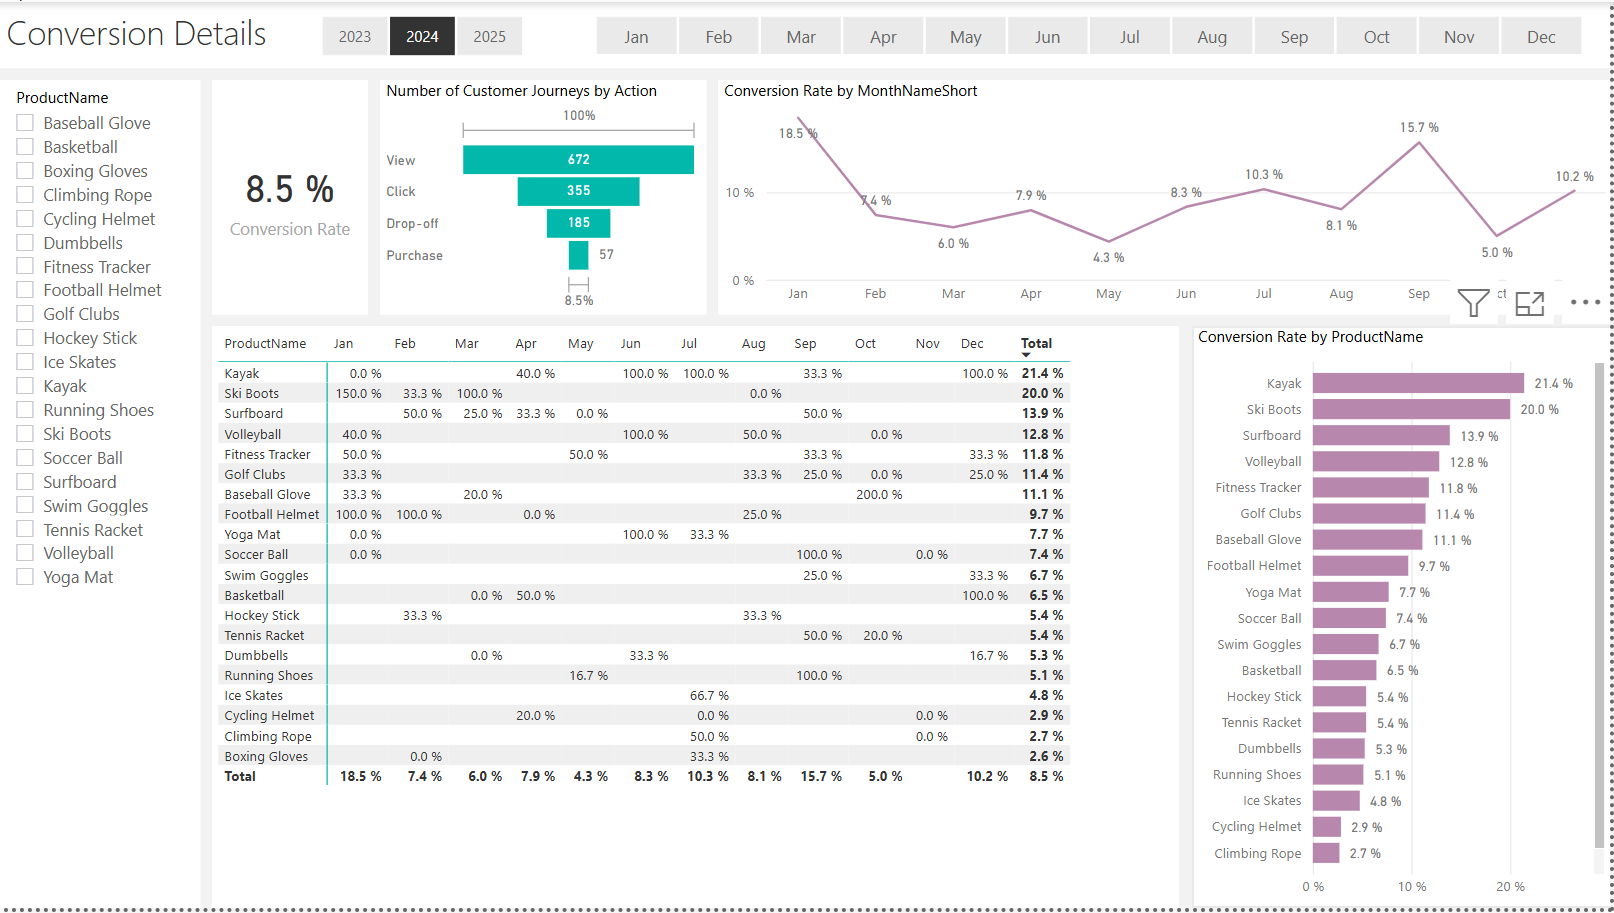

What the dashboard file says about the page in this screenshot:
{"tool":"powerbi","page":{"name":"Conversion Details","canvas":[1280,720],"ordinal":1},"visuals":[{"type":"textbox","box":[0,0,1280,52.6],"z":0},{"type":"slicer","fields":{"Values":["dim_products.ProductName"]},"box":[0,61.9,159.4,658.4],"z":1000},{"type":"card","fields":{"Values":["_Calculations.Conversion Rate"]},"box":[168.5,61.9,123.8,186.7],"z":2000},{"type":"lineChart","fields":{"Y":["_Calculations.Conversion Rate"],"Category":["Calendar.MonthNameShort"]},"box":[570.1,61.9,710.3,186.7],"z":3000},{"type":"clusteredBarChart","fields":{"Category":["dim_products.ProductName"],"Y":["_Calculations.Conversion Rate"]},"box":[948,257.7,332.4,462.6],"z":4000},{"type":"slicer","fields":{"Values":["Calendar.Year"]},"box":[230.2,4.1,208.5,44.4],"z":5000},{"type":"slicer","fields":{"Values":["Calendar.MonthNameShort"]},"box":[448,4.6,832.3,43.7],"z":6000},{"type":"pivotTable","fields":{"Rows":["dim_products.ProductName"],"Values":["_Calculations.Conversion Rate"],"Columns":["Calendar.MonthNameShort"]},"box":[168.5,257.7,768.6,462.6],"z":7000},{"type":"funnel","fields":{"Category":["fact_customer_journey.Action"],"Y":["_Calculations.Number of Customer Journeys"]},"box":[301.4,61.9,259.5,186.7],"z":8000}]}

Visuals, with their boxes in screenshot pixels (x1, y1, x2, y2), scaled from the page's 1280x720 canvas onto the 1614x913 screenshot:
textbox: box(0, 0, 1613, 67)
slicer - dim_products.ProductName: box(0, 78, 201, 912)
card - _Calculations.Conversion Rate: box(212, 78, 369, 315)
lineChart - _Calculations.Conversion Rate x Calendar.MonthNameShort: box(719, 78, 1613, 315)
clusteredBarChart - dim_products.ProductName x _Calculations.Conversion Rate: box(1195, 327, 1613, 912)
slicer - Calendar.Year: box(290, 5, 553, 62)
slicer - Calendar.MonthNameShort: box(565, 6, 1613, 61)
pivotTable - dim_products.ProductName x _Calculations.Conversion Rate: box(212, 327, 1182, 912)
funnel - fact_customer_journey.Action x _Calculations.Number of Customer Journeys: box(380, 78, 707, 315)
